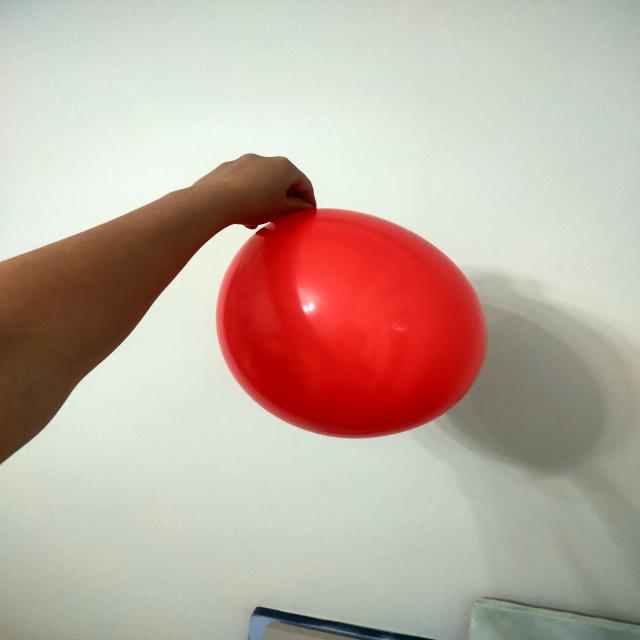red: (225, 206, 485, 439)
